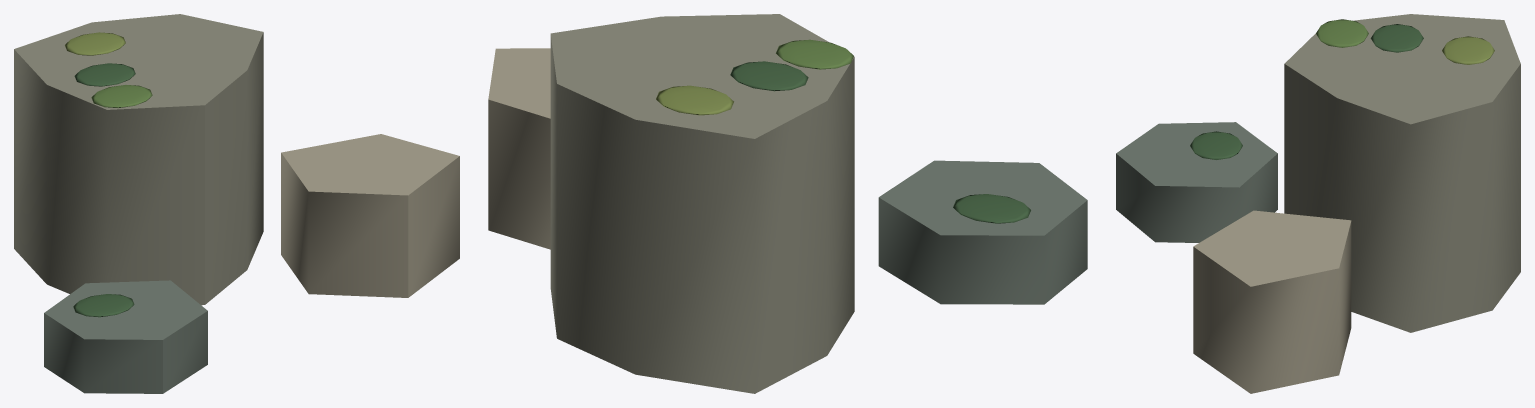
3 views of the same model, side by side, from view 1: azimuth 30°, elevation 25°; view 2: azimuth 150°, elevation 25°; view 3: azimuth 270°, elevation 25° (orthographic). The views are drawn at different scales.
Parts seen in each view (by area): view 1: climb-rocks-3-0, climb-rocks-3-1, climb-rocks-3-2, 바위 04; view 2: climb-rocks-3-0, climb-rocks-3-2, climb-rocks-3-1, 바위 04; view 3: climb-rocks-3-0, climb-rocks-3-1, climb-rocks-3-2, 바위 04.
Part boxes in pixels (<box>): climb-rocks-3-0: <box>14,14,263,305</box>; climb-rocks-3-1: <box>281,134,459,297</box>; climb-rocks-3-2: <box>44,280,207,393</box>; 바위 04: <box>65,32,152,317</box>; climb-rocks-3-0: <box>550,14,854,393</box>; climb-rocks-3-2: <box>878,160,1087,304</box>; climb-rocks-3-1: <box>488,48,550,249</box>; 바위 04: <box>656,39,1030,223</box>; climb-rocks-3-0: <box>1284,14,1520,332</box>; climb-rocks-3-1: <box>1193,210,1351,393</box>; climb-rocks-3-2: <box>1116,122,1277,242</box>; 바위 04: <box>1190,19,1494,159</box>.
Bounding box in the file's own units: 3.45 × 1.59 × 2.74.
